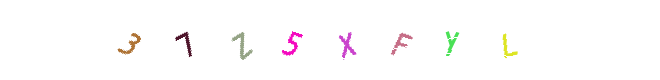3: (94, 0, 174, 80)
5: (274, 0, 354, 80)
7: (145, 0, 225, 80)
F: (290, 0, 370, 80)
L: (467, 0, 547, 80)
X: (279, 0, 359, 80)
Y: (411, 0, 491, 80)
Z: (251, 0, 331, 80)
